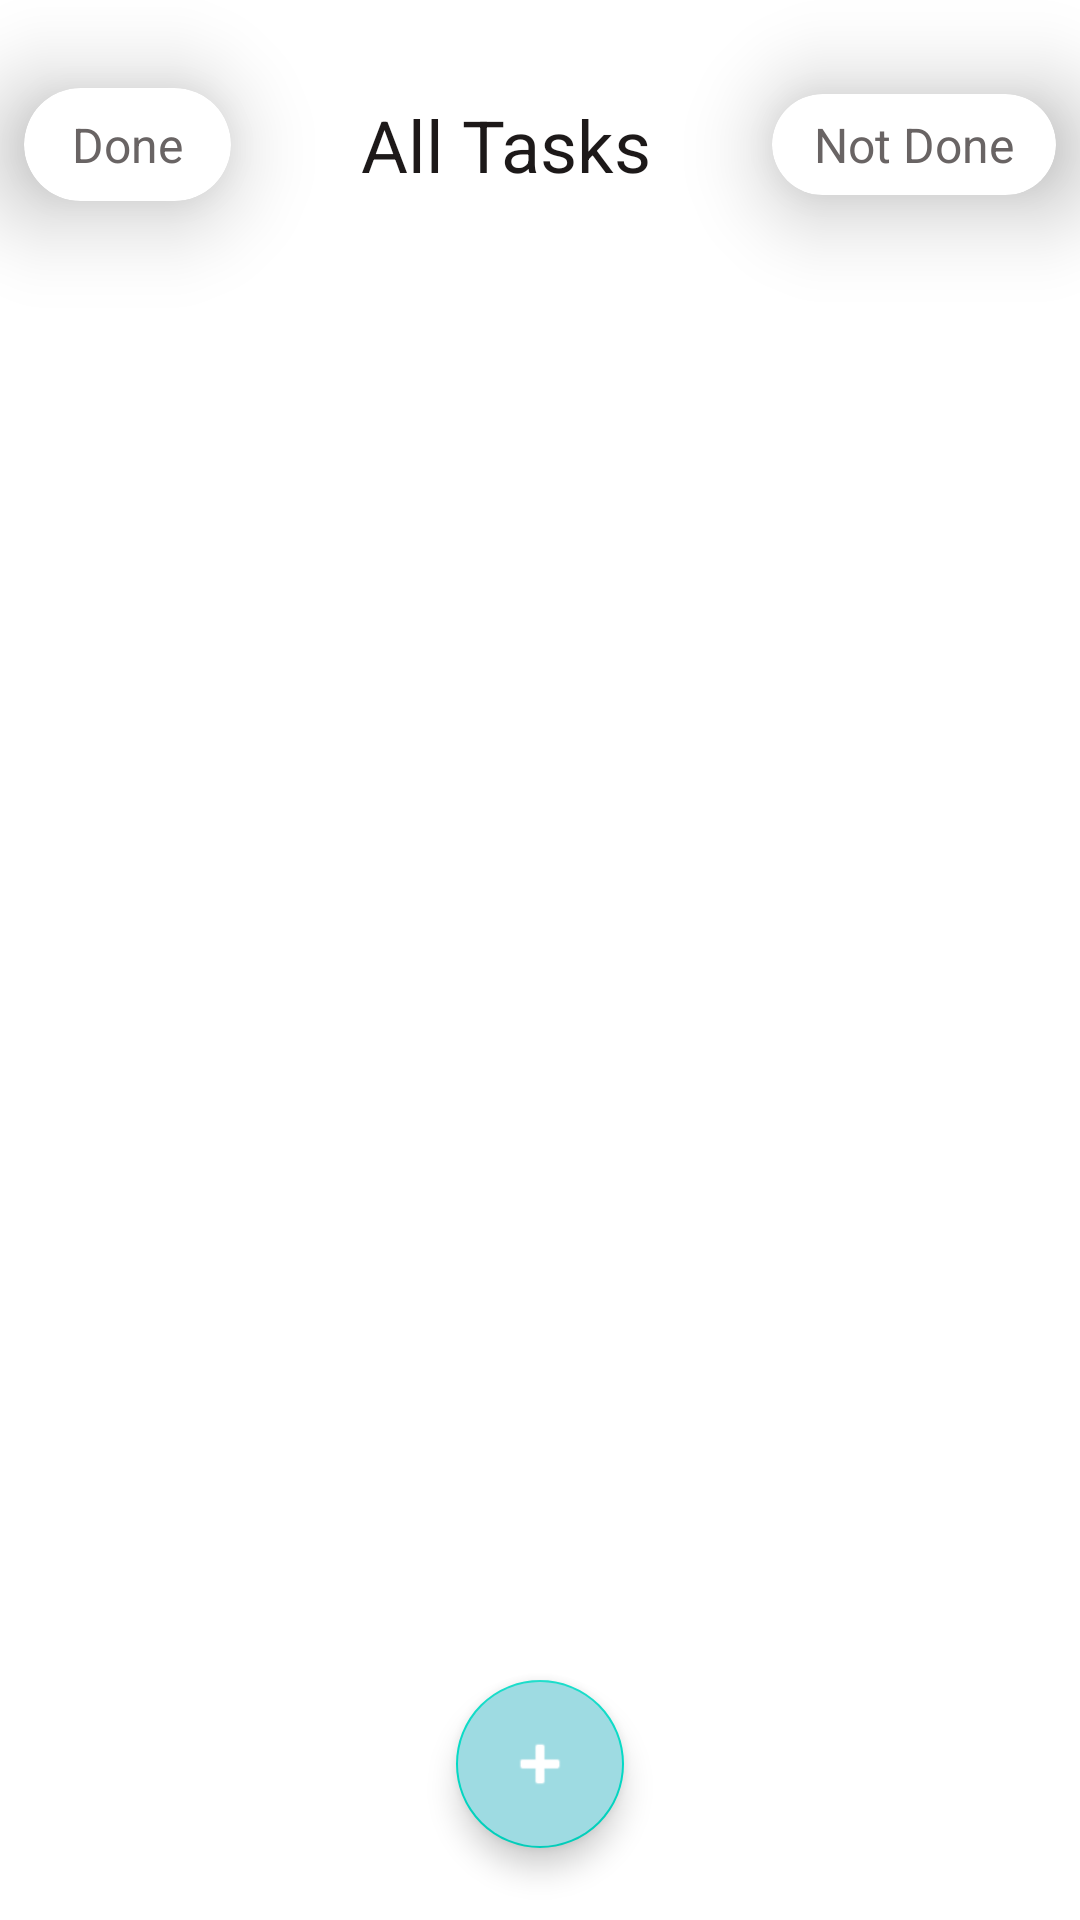

Icon click points for this 1080px×1920px phone screenshot, format (x,y):
add: (540,1764)
